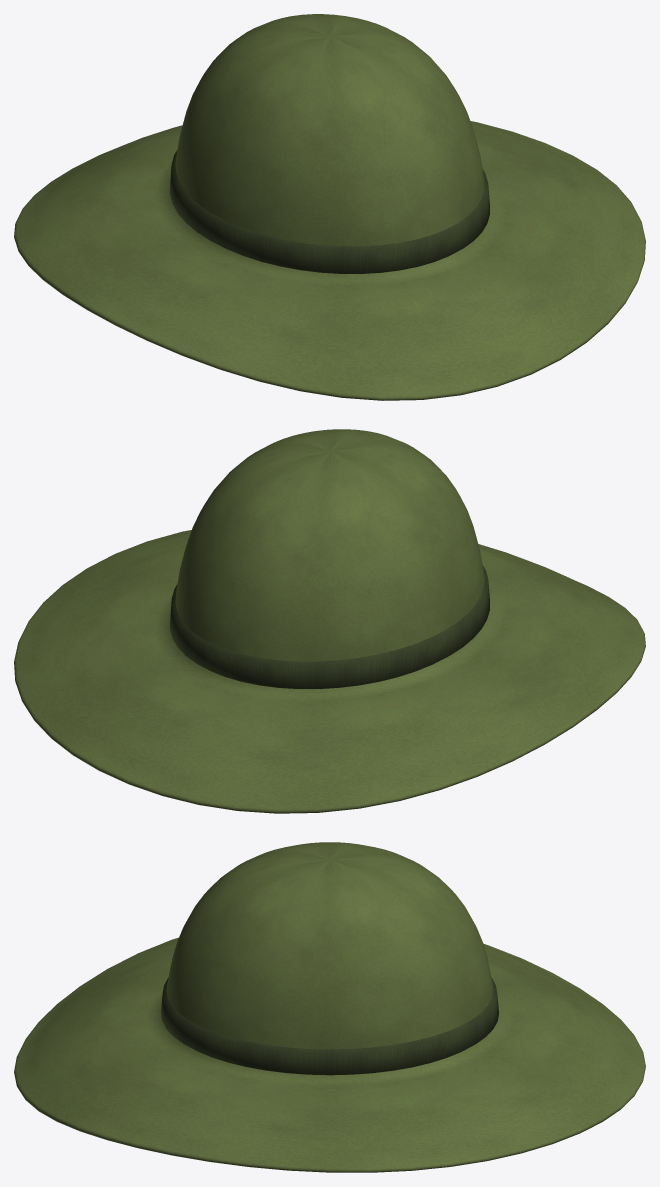
Rendered from prop-hat.glb.
The picture shows the model from 3 angles, top to bottom: view 1: azimuth 30°, elevation 25°; view 2: azimuth 150°, elevation 25°; view 3: azimuth 270°, elevation 25°; orthographic projection. The views are drawn at different scales.
Visible parts, largest first — view 1: hat-forager-m; view 2: hat-forager-m; view 3: hat-forager-m.
Part boxes in pixels (bbox=[...]): hat-forager-m: bbox=[14, 14, 645, 400]; hat-forager-m: bbox=[14, 429, 645, 813]; hat-forager-m: bbox=[14, 842, 645, 1172].
Size of the model in its own units: 0.4151 by 0.1699 by 0.4507.
Materials: 2 (2 with a texture image).
